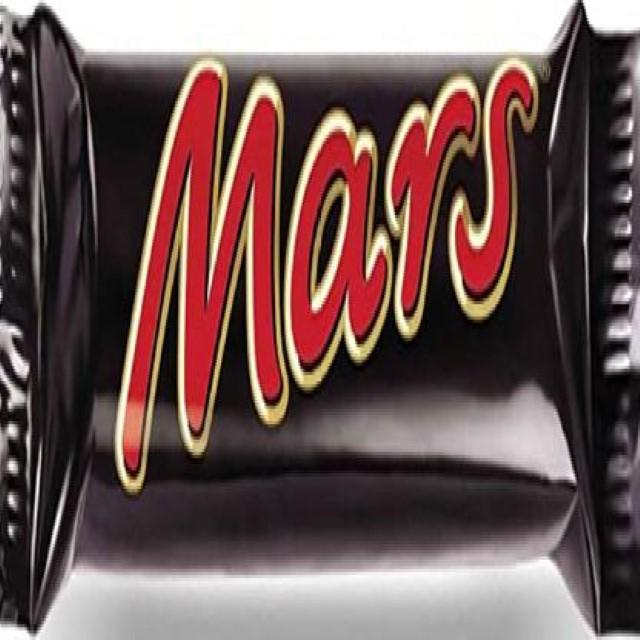mars_chocolate: (52, 75, 575, 513)
